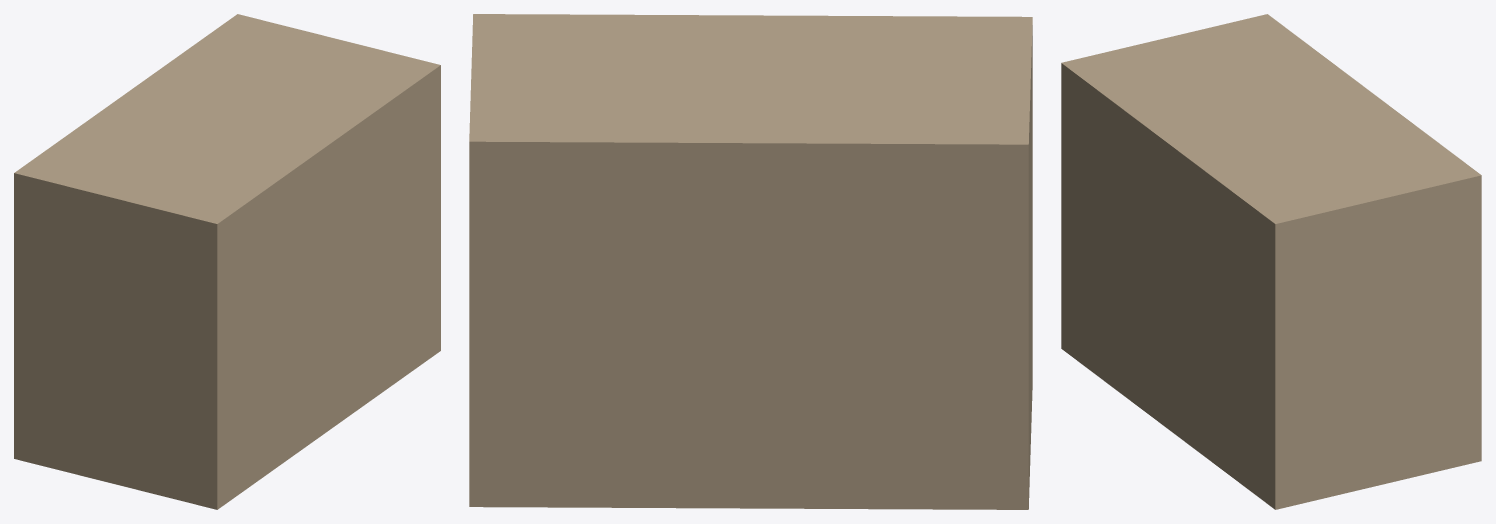
The model's file is bld_109034868.dae.
3 renders of one model, left to right at view 1: azimuth 30°, elevation 25°; view 2: azimuth 150°, elevation 25°; view 3: azimuth 270°, elevation 25°, orthographic. The views are drawn at different scales.
Visible parts, largest first — view 1: bld_109034868; view 2: bld_109034868; view 3: bld_109034868.
Part boxes in pixels (x1,y1,x2,y2): bld_109034868: [14, 14, 440, 509]; bld_109034868: [469, 14, 1032, 509]; bld_109034868: [1061, 14, 1481, 509].
Size of the model in its own units: 12.62 by 10.67 by 8.
